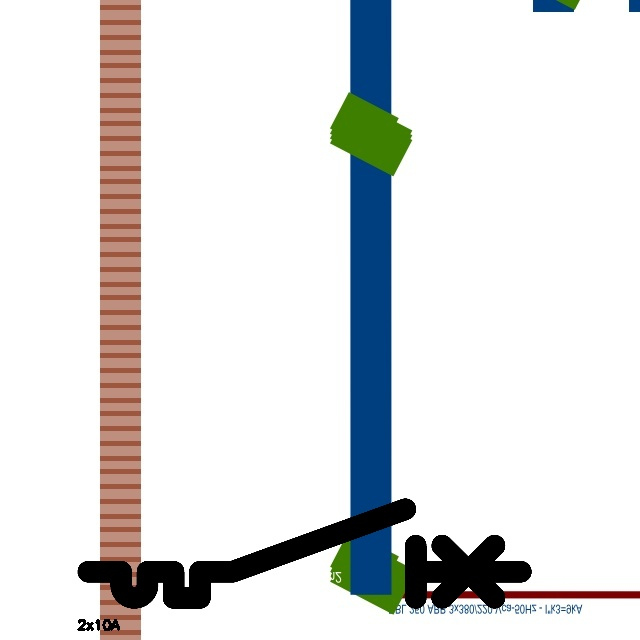interruptor_termomagnetico: (77, 498, 532, 609)
